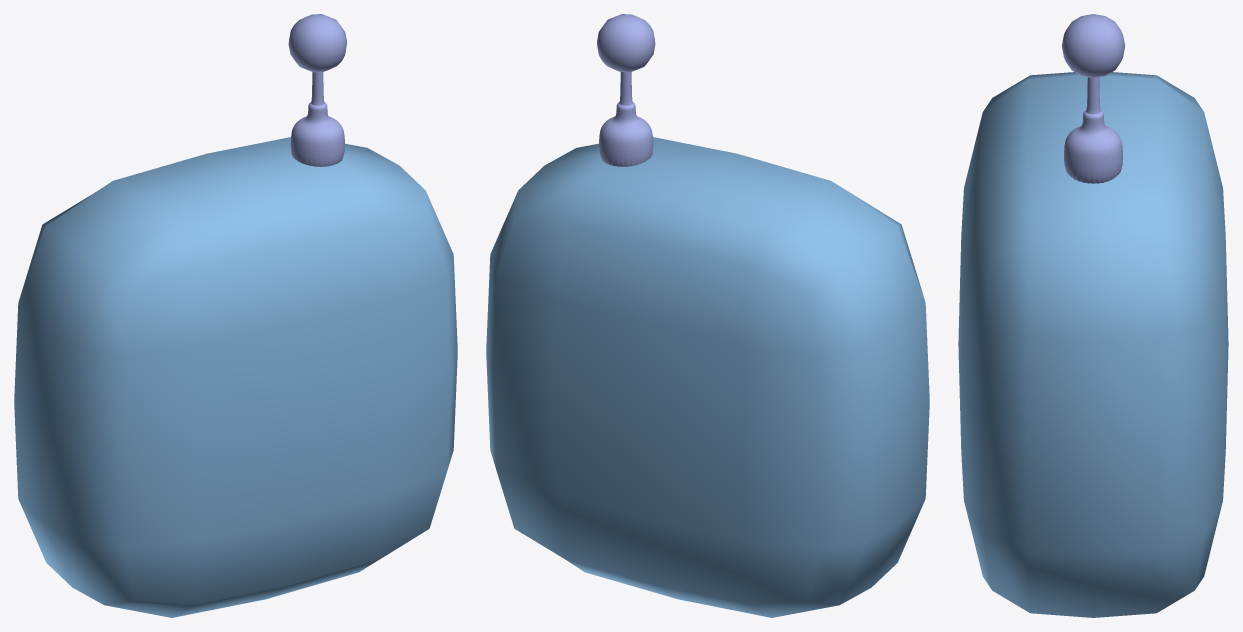
The model's file is backpack.fbx.
3 views of the same model, side by side, from view 1: azimuth 30°, elevation 25°; view 2: azimuth 150°, elevation 25°; view 3: azimuth 270°, elevation 25° (orthographic). The views are drawn at different scales.
Visible parts, largest first — view 1: Cube.010, Cylinder; view 2: Cube.010, Cylinder; view 3: Cube.010, Cylinder.
Part boxes in pixels (<box>): Cube.010: <box>14,137,457,617</box>; Cylinder: <box>288,14,346,166</box>; Cube.010: <box>486,137,929,617</box>; Cylinder: <box>597,14,655,166</box>; Cube.010: <box>958,72,1228,617</box>; Cylinder: <box>1062,14,1124,183</box>.
Bounding box in the file's own units: 132 × 175 × 71.88.
